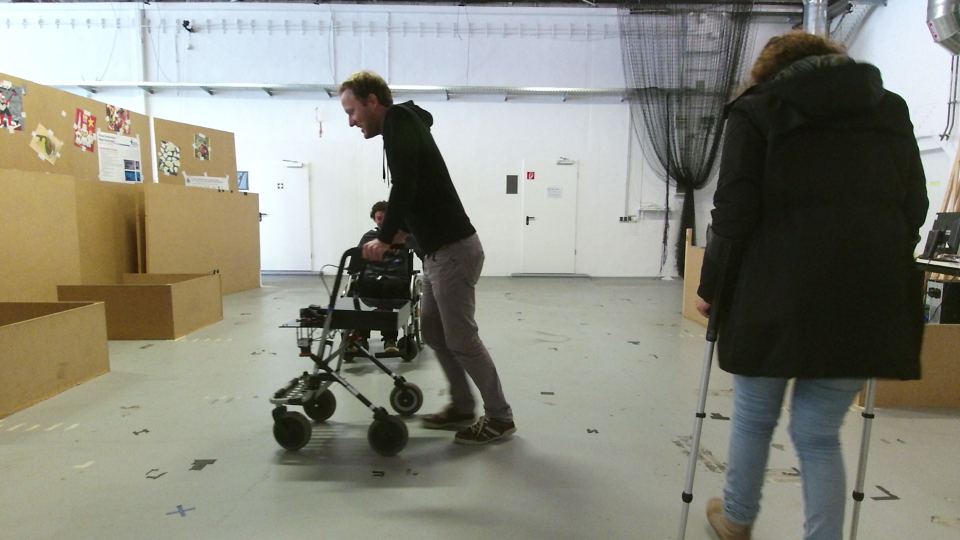crutches: (670, 30, 931, 540)
